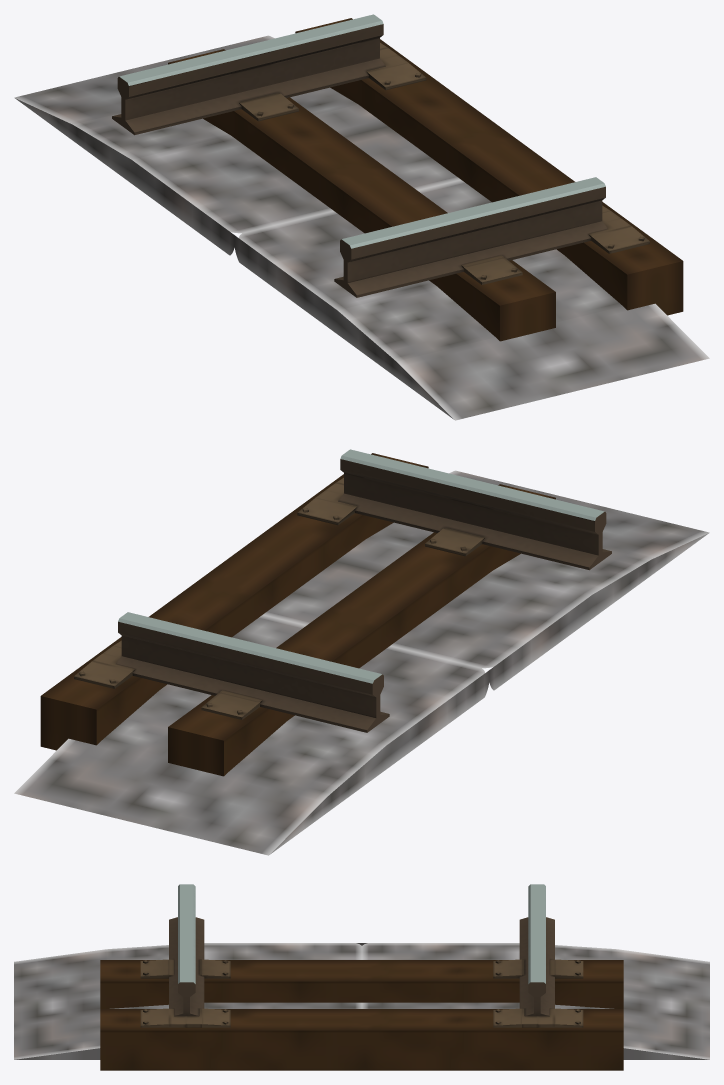
File: spsf_tracks_ballast.obj
The picture shows the model from 3 angles, top to bottom: view 1: azimuth 30°, elevation 25°; view 2: azimuth 150°, elevation 25°; view 3: azimuth 270°, elevation 25°; orthographic projection. The views are drawn at different scales.
Visible parts, largest first — view 1: RAIL_BASE_Cube.001, RAIL_LEFT_Cube.002, RAIL_RIGHT_Cube.010, RAIL_BASE.002_RAIL_BASE.007, RAIL_BASE.003_RAIL_BASE.006, RAIL_BASE.004_RAIL_BASE.008, RAIL_BASE.005_Cube.003; view 2: RAIL_BASE_Cube.001, RAIL_RIGHT_Cube.010, RAIL_LEFT_Cube.002, RAIL_BASE.002_RAIL_BASE.007, RAIL_BASE.003_RAIL_BASE.006, RAIL_BASE.004_RAIL_BASE.008, RAIL_BASE.005_Cube.003; view 3: RAIL_BASE.003_RAIL_BASE.006, RAIL_BASE_Cube.001, RAIL_BASE.002_RAIL_BASE.007, RAIL_BASE.004_RAIL_BASE.008, RAIL_BASE.005_Cube.003, RAIL_LEFT_Cube.002, RAIL_RIGHT_Cube.010.
Boxes of the visible parts, <box> form: RAIL_BASE_Cube.001: <box>14,35,709,420</box>; RAIL_LEFT_Cube.002: <box>334,177,607,297</box>; RAIL_RIGHT_Cube.010: <box>112,14,385,135</box>; RAIL_BASE.002_RAIL_BASE.007: <box>296,18,683,315</box>; RAIL_BASE.003_RAIL_BASE.006: <box>168,32,627,340</box>; RAIL_BASE.004_RAIL_BASE.008: <box>168,49,555,341</box>; RAIL_BASE.005_Cube.003: <box>239,43,649,284</box>; RAIL_BASE_Cube.001: <box>14,470,709,855</box>; RAIL_RIGHT_Cube.010: <box>116,612,389,732</box>; RAIL_LEFT_Cube.002: <box>338,449,611,570</box>; RAIL_BASE.002_RAIL_BASE.007: <box>40,453,427,750</box>; RAIL_BASE.003_RAIL_BASE.006: <box>96,467,555,775</box>; RAIL_BASE.004_RAIL_BASE.008: <box>168,484,555,776</box>; RAIL_BASE.005_Cube.003: <box>74,478,484,719</box>; RAIL_BASE.003_RAIL_BASE.006: <box>100,981,623,1070</box>; RAIL_BASE_Cube.001: <box>14,943,709,1059</box>; RAIL_BASE.002_RAIL_BASE.007: <box>100,1009,623,1030</box>; RAIL_BASE.004_RAIL_BASE.008: <box>100,960,623,981</box>; RAIL_BASE.005_Cube.003: <box>140,959,583,1027</box>; RAIL_LEFT_Cube.002: <box>169,884,204,1016</box>; RAIL_RIGHT_Cube.010: <box>519,884,554,1016</box>.
Size of the model in its own units: 1.11 by 0.3683 by 3.
Materials: 1 (1 with a texture image).
